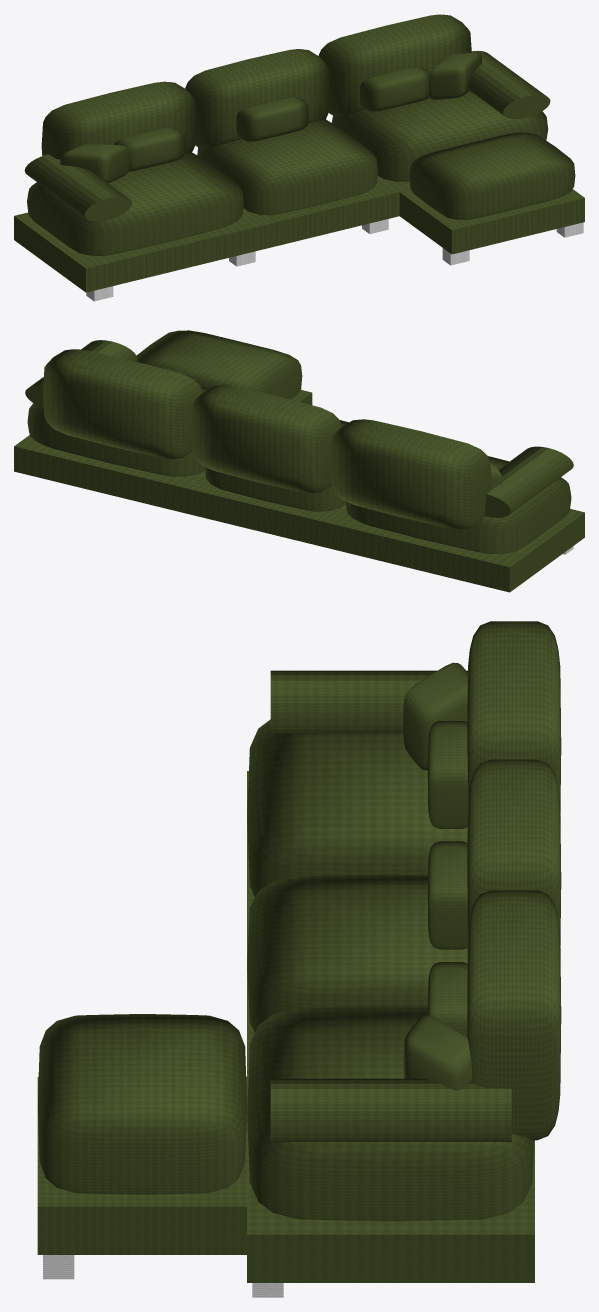
3 renders of one model, top to bottom at view 1: azimuth 30°, elevation 25°; view 2: azimuth 150°, elevation 25°; view 3: azimuth 270°, elevation 25°, orthographic. The views are drawn at different scales.
Visible parts, largest first — view 1: 5 left_seat_cushion, 6 middle_seat_cushion, 8 ottoman_cushion, 7 right_seat_cushion, 10 middle_backrest, 1 left_base, 11 right_backrest, 9 left_backrest, 4 ottoman_base, 2 middle_base, 12 left_armrest, 13 right_armrest (+6 smaller); view 2: 9 left_backrest, 11 right_backrest, 10 middle_backrest, 1 left_base, 8 ottoman_cushion, 5 left_seat_cushion, 3 right_base, 2 middle_base, 12 left_armrest, 7 right_seat_cushion, 6 middle_seat_cushion, 13 right_armrest; view 3: 8 ottoman_cushion, 7 right_seat_cushion, 5 left_seat_cushion, 6 middle_seat_cushion, 11 right_backrest, 3 right_base, 13 right_armrest, 4 ottoman_base, 9 left_backrest, 10 middle_backrest, 12 left_armrest, 15 middle_waist_pillow (+4 smaller).
Boxes of the visible parts, box(x1,y1,x2,y2) form: 5 left_seat_cushion: box(27, 152, 243, 255); 6 middle_seat_cushion: box(197, 119, 378, 215); 8 ottoman_cushion: box(409, 132, 575, 219); 7 right_seat_cushion: box(331, 91, 548, 181); 10 middle_backrest: box(185, 49, 329, 149); 1 left_base: box(14, 212, 256, 292); 11 right_backrest: box(318, 14, 471, 117); 9 left_backrest: box(41, 81, 196, 159); 4 ottoman_base: box(399, 189, 584, 254); 2 middle_base: box(242, 184, 389, 250); 12 left_armrest: box(24, 154, 132, 221); 13 right_armrest: box(467, 50, 550, 119); 9 left_backrest: box(330, 419, 491, 529); 11 right_backrest: box(42, 349, 202, 458); 10 middle_backrest: box(191, 385, 341, 493); 1 left_base: box(331, 509, 584, 592); 8 ottoman_cushion: box(136, 330, 302, 399); 5 left_seat_cushion: box(345, 456, 571, 553); 3 right_base: box(14, 435, 206, 514); 2 middle_base: box(192, 479, 346, 548); 12 left_armrest: box(484, 446, 573, 517); 7 right_seat_cushion: box(27, 386, 208, 476); 6 middle_seat_cushion: box(205, 420, 348, 511); 13 right_armrest: box(25, 340, 137, 407); 8 ottoman_cushion: box(37, 1014, 246, 1194); 7 right_seat_cushion: box(247, 1005, 533, 1221); 5 left_seat_cushion: box(247, 719, 467, 896); 6 middle_seat_cushion: box(247, 874, 467, 1032); 11 right_backrest: box(467, 890, 561, 1140); 3 right_base: box(247, 1067, 534, 1282); 13 right_armrest: box(270, 1078, 511, 1141); 4 ottoman_base: box(37, 1077, 246, 1254); 9 left_backrest: box(467, 621, 561, 813); 10 middle_backrest: box(467, 759, 561, 945); 12 left_armrest: box(270, 670, 467, 733); 15 middle_waist_pillow: box(427, 841, 467, 949).
Bounding box in the file's own units: 3.71 × 1 × 1.77.
Materials: 2 (2 with a texture image).
